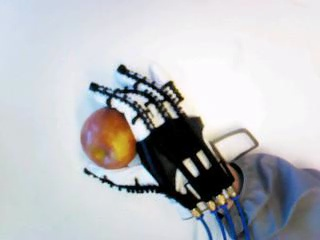apple: (79, 105, 136, 169)
hand: (81, 63, 238, 218)
